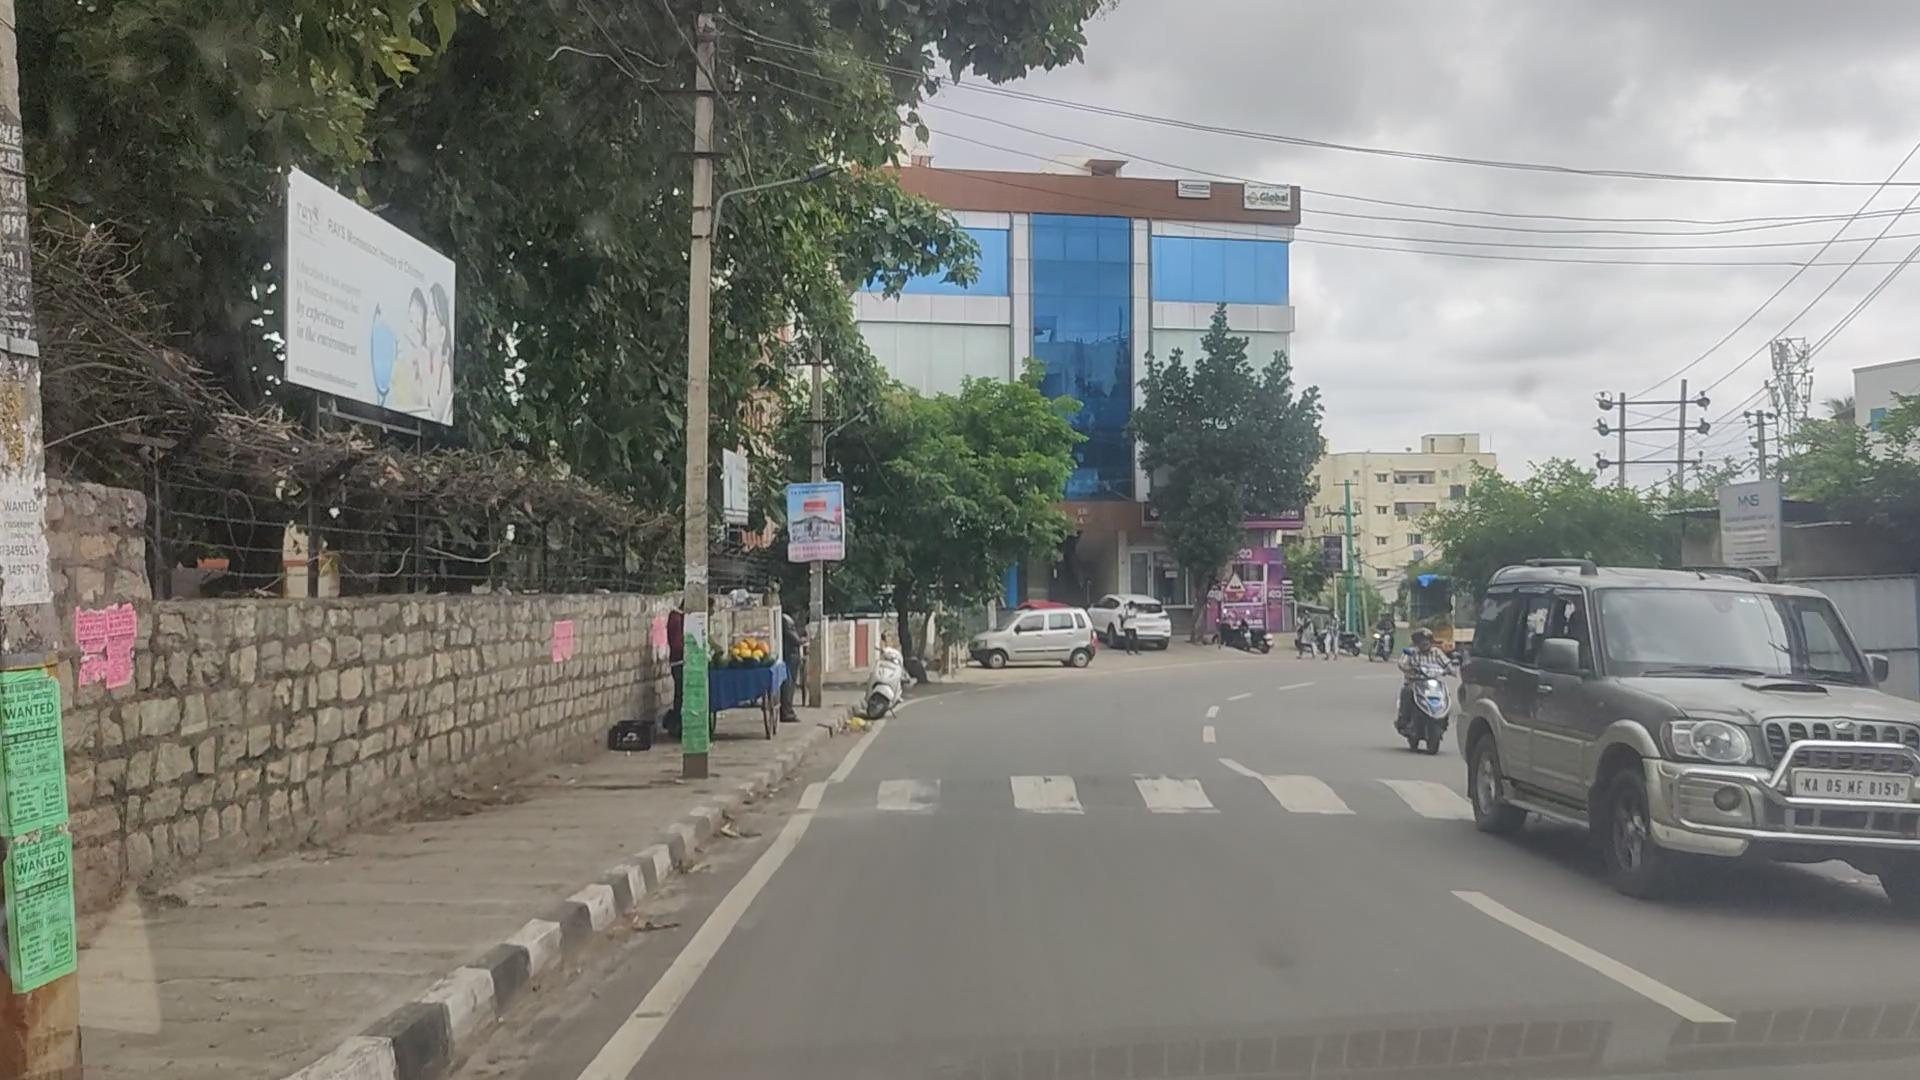LMV: (1472, 564, 1920, 877)
SpeedBump: (822, 766, 1489, 823)
